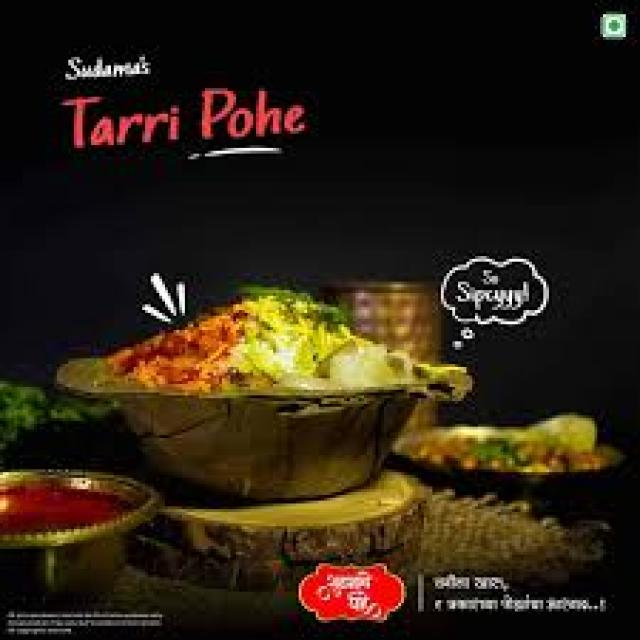POHA: (102, 287, 469, 395)
